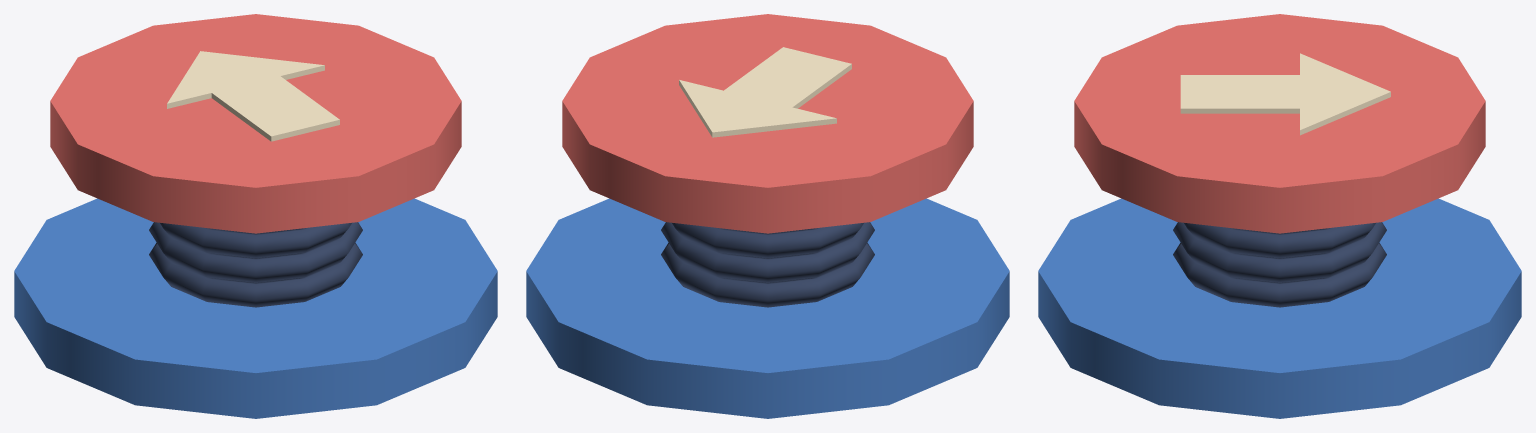
The model's file is jump-pad.glb.
The picture shows the model from 3 angles, left to right: view 1: azimuth 30°, elevation 25°; view 2: azimuth 150°, elevation 25°; view 3: azimuth 270°, elevation 25°; orthographic projection.
Visible parts, largest first — view 1: base, cushion, up-arrow, coil-0, coil-1, coil-2; view 2: base, cushion, up-arrow, coil-0, coil-1, coil-2; view 3: base, cushion, up-arrow, coil-0, coil-1, coil-2.
Boxes of the visible parts, <box> form: base: <box>14,198,497,418</box>; cushion: <box>50,14,461,233</box>; up-arrow: <box>167,51,339,141</box>; coil-0: <box>149,242,362,307</box>; coil-1: <box>149,222,362,282</box>; coil-2: <box>160,223,351,258</box>; base: <box>526,198,1009,418</box>; cushion: <box>562,14,973,233</box>; up-arrow: <box>679,47,851,137</box>; coil-0: <box>661,242,874,307</box>; coil-1: <box>661,222,874,282</box>; coil-2: <box>672,223,863,258</box>; base: <box>1038,198,1521,418</box>; cushion: <box>1074,14,1485,233</box>; up-arrow: <box>1180,53,1390,135</box>; coil-0: <box>1173,242,1386,307</box>; coil-1: <box>1173,222,1386,282</box>; coil-2: <box>1184,223,1375,258</box>.
Bounding box in the file's own units: 1.34 × 0.688 × 1.34.
